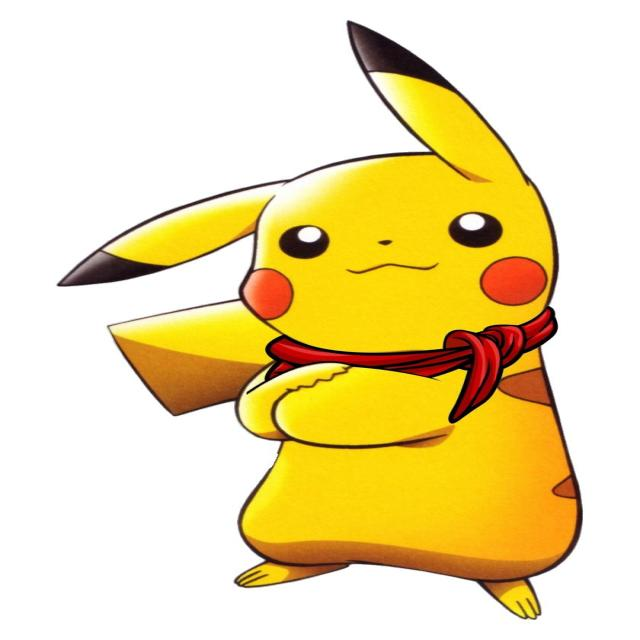pikachu: (47, 22, 582, 619)
